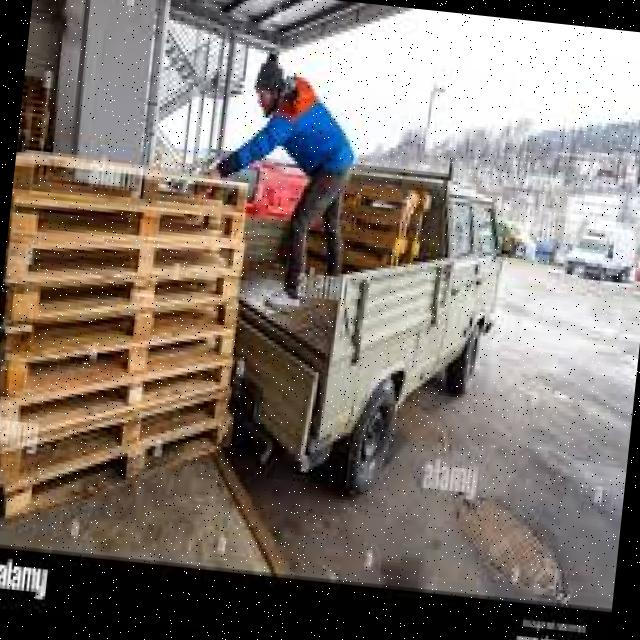Wooden-Pallets: (0, 414, 231, 528), (0, 319, 246, 411), (13, 141, 260, 219), (6, 228, 238, 289)
